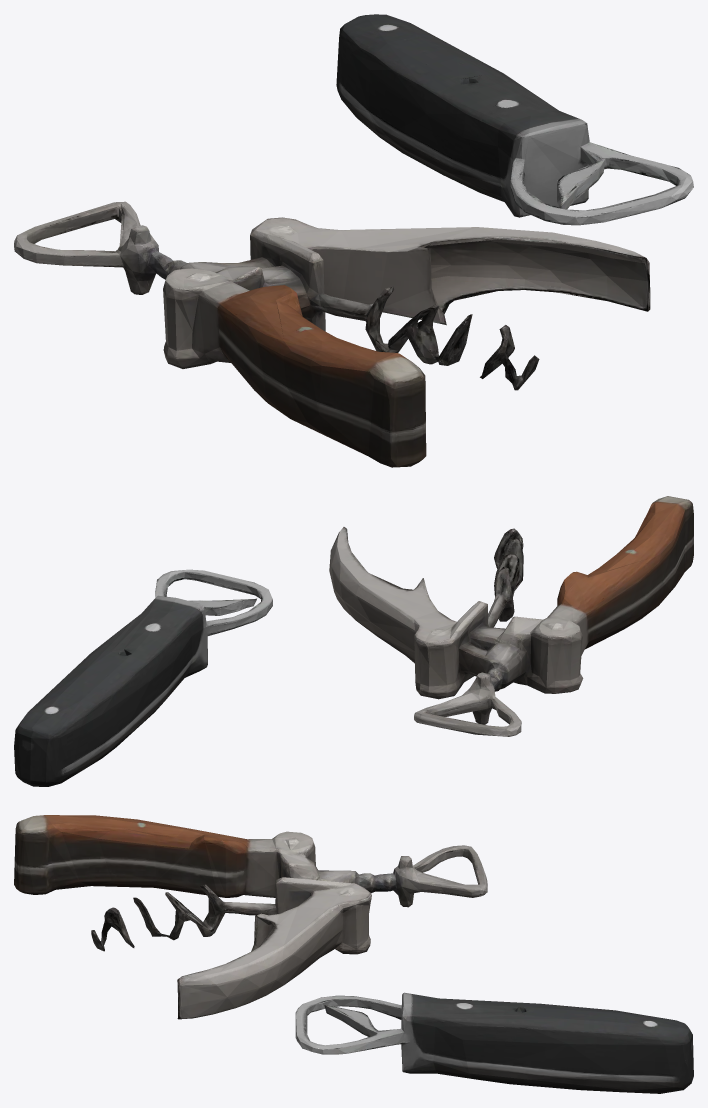
3 views of the same model, one above another, from view 1: azimuth 30°, elevation 25°; view 2: azimuth 150°, elevation 25°; view 3: azimuth 270°, elevation 25° (orthographic). The views are drawn at different scales.
Parts seen in each view (by area): view 1: geometry_0; view 2: geometry_0; view 3: geometry_0.
Part boxes in pixels (box(x1,y1,x2,y2)): geometry_0: box(14, 14, 693, 467); geometry_0: box(14, 496, 693, 786); geometry_0: box(14, 815, 693, 1093).
Size of the model in its own units: 0.7062 by 0.1962 by 0.9973.
Materials: 1 (1 with a texture image).
